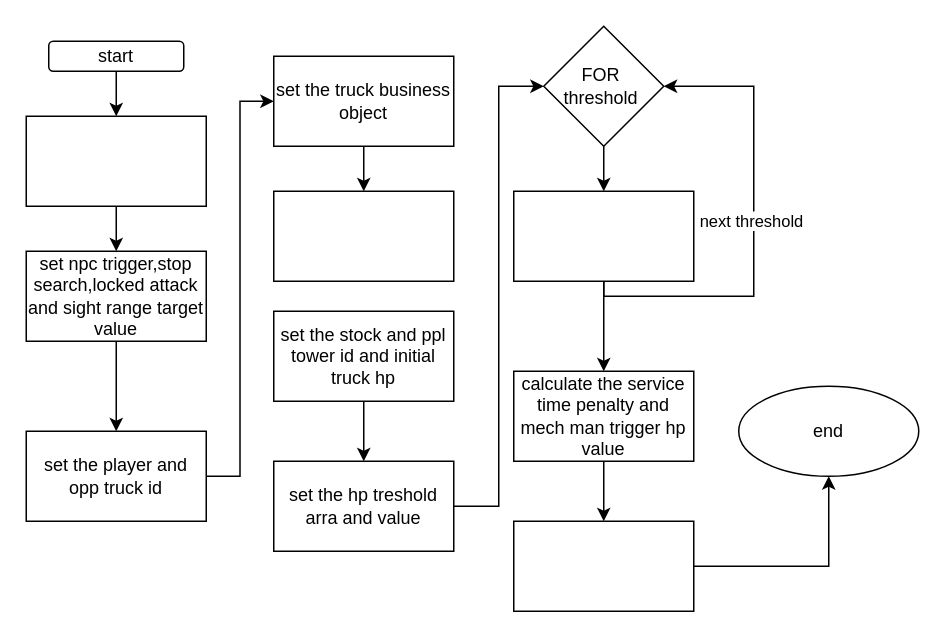
The diagram is 945 pixels wide and 638 high, and some of its shapes have lost their labels. The box of each missing label's shape, as (x1, y1, x2, y2) in pixels:
calculate the hp threshold hp value: (512, 190, 694, 281)
calculate the service time: (272, 190, 454, 281)
initialize the preservice and post service array: (25, 115, 206, 206)
return property object: (512, 520, 694, 611)
